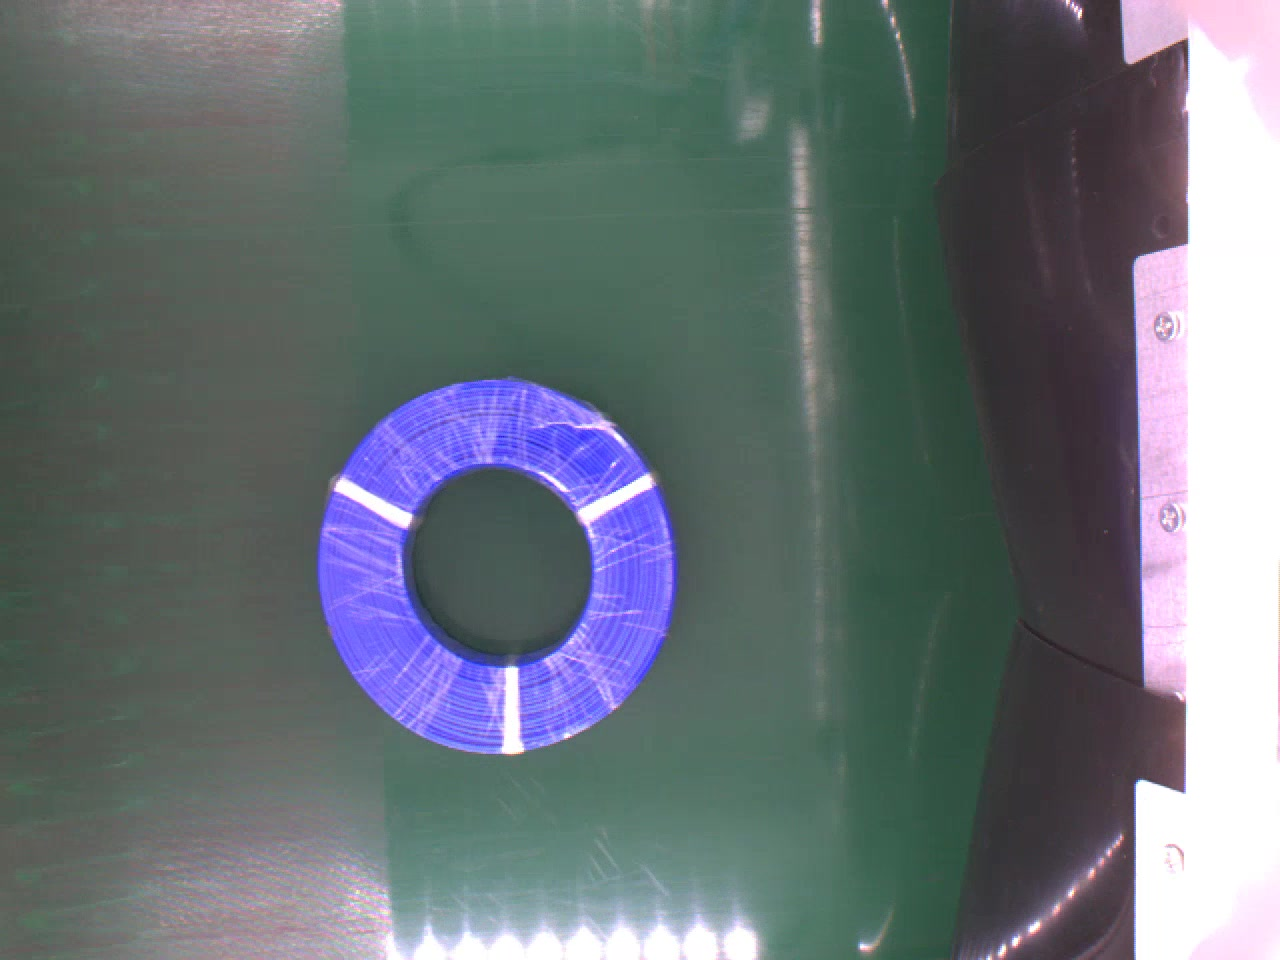blue: (318, 377, 676, 759)
